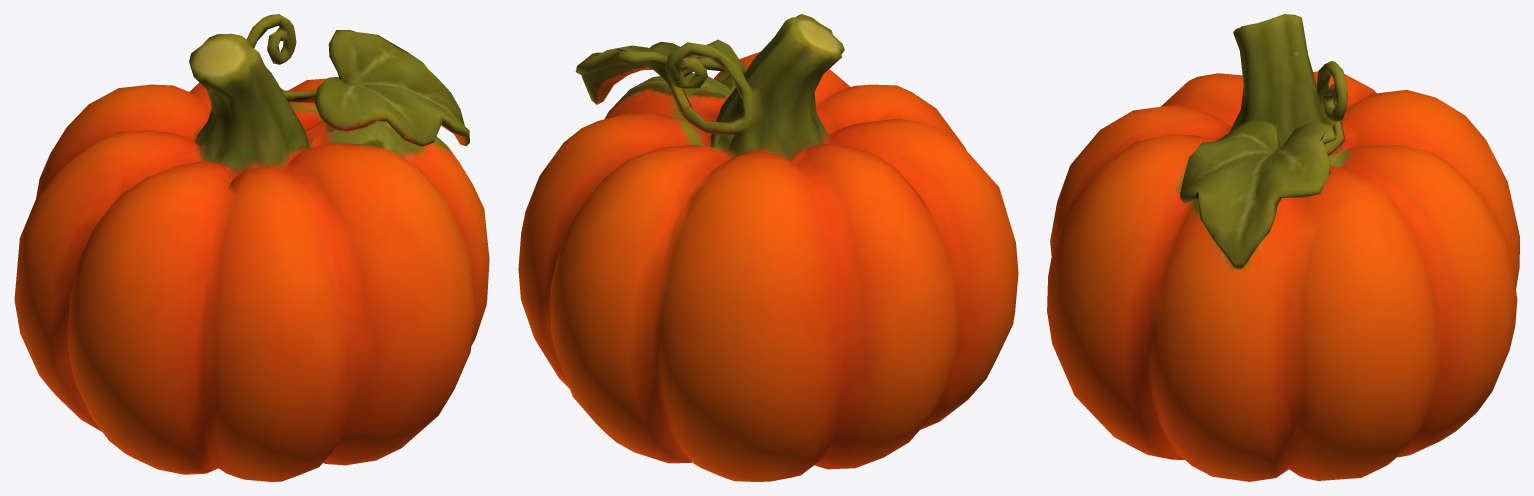
3 renders of one model, left to right at view 1: azimuth 30°, elevation 25°; view 2: azimuth 150°, elevation 25°; view 3: azimuth 270°, elevation 25°, orthographic. The views are drawn at different scales.
Parts seen in each view (by area): view 1: pumpkin; view 2: pumpkin; view 3: pumpkin.
Boxes of the visible parts, bbox=[...] form: pumpkin: bbox=[14, 14, 489, 481]; pumpkin: bbox=[518, 14, 1018, 481]; pumpkin: bbox=[1047, 14, 1519, 481].
Size of the model in its own units: 0.3002 by 0.2836 by 0.2995.
Materials: 1 (1 with a texture image).
